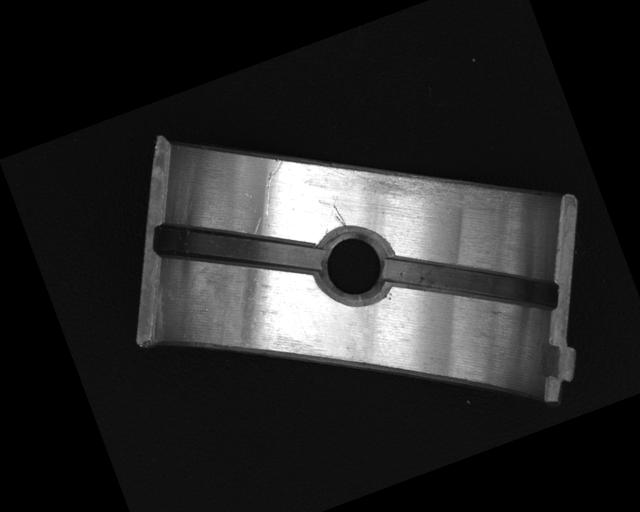gap: (380, 206, 564, 358), (150, 179, 323, 318)
hole: (306, 219, 401, 315)
nick: (248, 158, 298, 217), (330, 202, 347, 227)
scratch: (358, 124, 517, 252)
